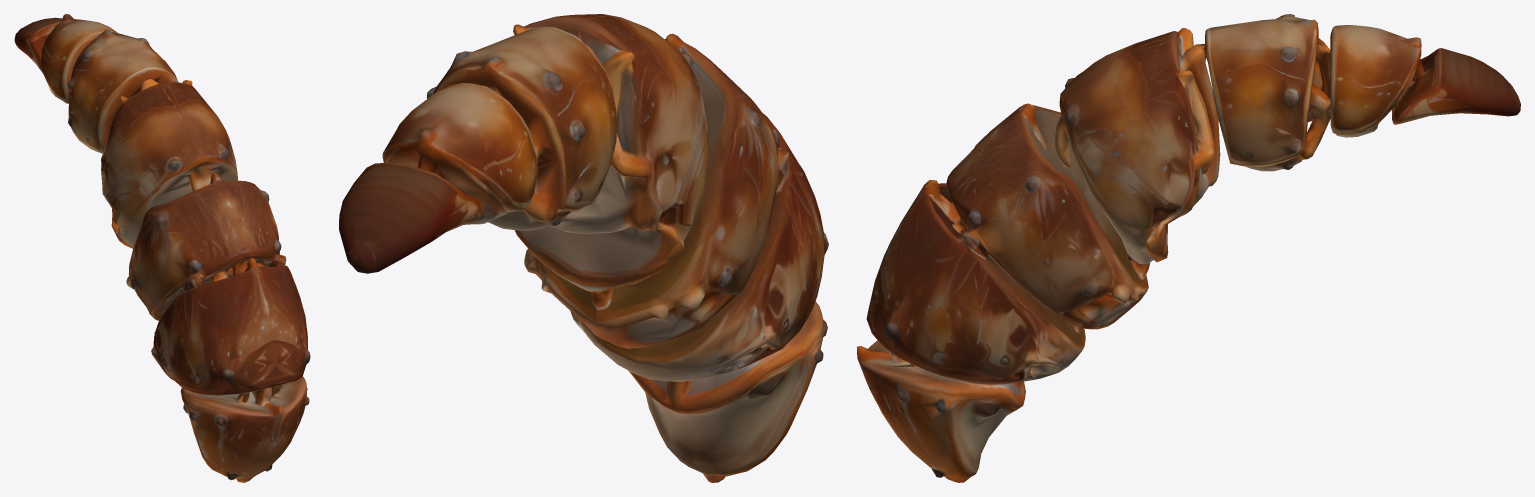
File: leg_short.glb
The picture shows the model from 3 angles, left to right: view 1: azimuth 30°, elevation 25°; view 2: azimuth 150°, elevation 25°; view 3: azimuth 270°, elevation 25°; orthographic projection. The views are drawn at different scales.
Visible parts, largest first — view 1: tripo_node_c240f501-3451-478c-8025-cfb611acdbaf; view 2: tripo_node_c240f501-3451-478c-8025-cfb611acdbaf; view 3: tripo_node_c240f501-3451-478c-8025-cfb611acdbaf.
Boxes of the visible parts, box(x1,y1,x2,y2) form: tripo_node_c240f501-3451-478c-8025-cfb611acdbaf: box(14, 14, 310, 482); tripo_node_c240f501-3451-478c-8025-cfb611acdbaf: box(339, 14, 828, 482); tripo_node_c240f501-3451-478c-8025-cfb611acdbaf: box(857, 14, 1520, 482).
Size of the model in its own units: 0.2835 by 0.7654 by 0.998.
Materials: 1 (1 with a texture image).
